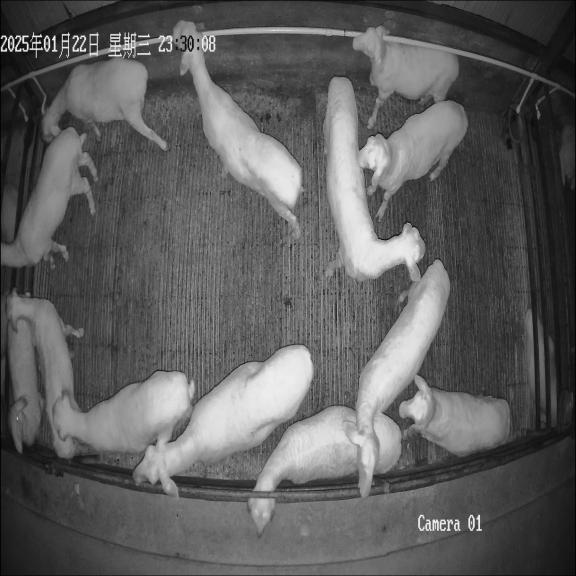drinking: (42, 58, 167, 150)
eating: (247, 404, 401, 538)
stand: (173, 20, 303, 240), (133, 344, 314, 497), (344, 262, 450, 500), (323, 76, 425, 281), (2, 127, 98, 268), (359, 101, 468, 219), (9, 294, 83, 457), (54, 371, 195, 454), (352, 26, 459, 129), (399, 376, 510, 456), (7, 319, 42, 452)
